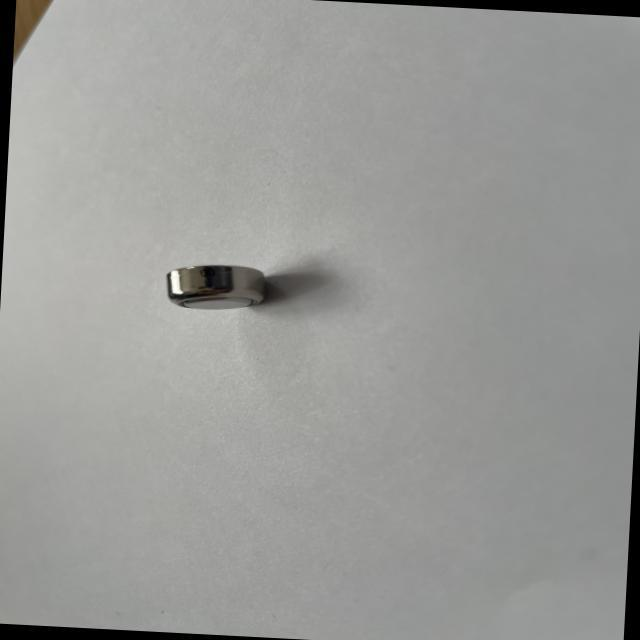COIN: (162, 259, 268, 313)
